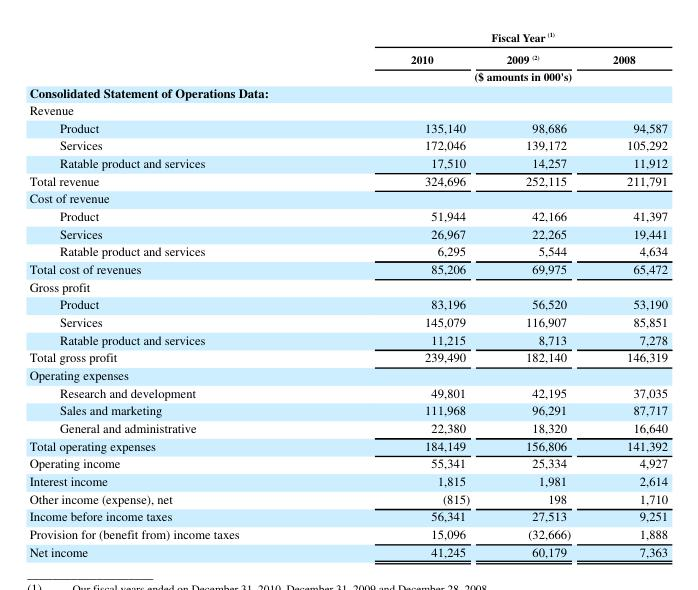table: (28, 28, 667, 559)
table column: (28, 28, 324, 559), (324, 28, 487, 559), (487, 28, 591, 559), (591, 28, 667, 559)
table column header: (28, 28, 667, 83)
table projected row header: (28, 83, 667, 101), (28, 188, 667, 206), (28, 276, 667, 294), (28, 365, 667, 382), (28, 101, 667, 117)
table row: (28, 28, 667, 48), (28, 48, 667, 67), (28, 83, 667, 101), (28, 117, 667, 135), (28, 135, 667, 153), (28, 170, 667, 188), (28, 188, 667, 206), (28, 223, 667, 241), (28, 241, 667, 259), (28, 276, 667, 294), (28, 294, 667, 312), (28, 329, 667, 347), (28, 347, 667, 365), (28, 382, 667, 400), (28, 400, 667, 418), (28, 435, 667, 453), (28, 453, 667, 471), (28, 488, 667, 506), (28, 506, 667, 524), (28, 524, 667, 542), (28, 153, 667, 170), (28, 206, 667, 223), (28, 259, 667, 276), (28, 312, 667, 329), (28, 365, 667, 382), (28, 418, 667, 435), (28, 471, 667, 488), (28, 542, 667, 559), (28, 67, 667, 83), (28, 101, 667, 117)
table spanning cell: (324, 28, 667, 48), (324, 67, 667, 83)
